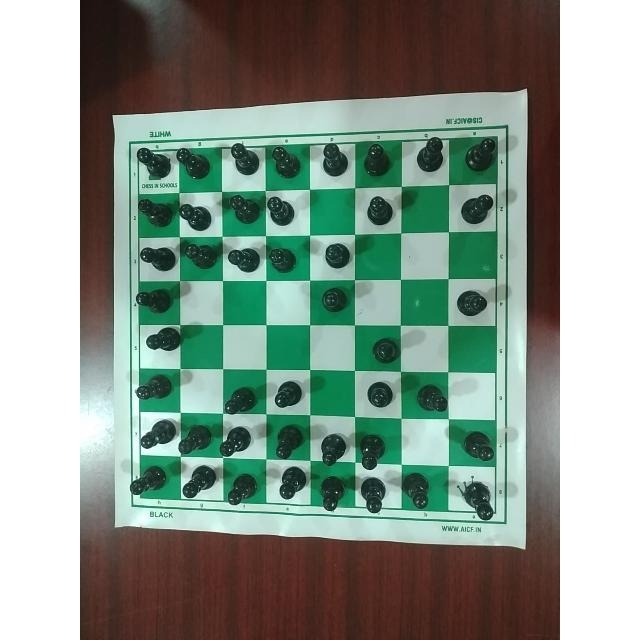black-pawn: (459, 475, 499, 521), (174, 141, 213, 181), (133, 142, 171, 181), (410, 137, 446, 177), (457, 190, 497, 226), (133, 370, 178, 402), (136, 414, 176, 450), (357, 474, 391, 516), (270, 421, 306, 460), (181, 462, 217, 501), (400, 471, 435, 511), (135, 195, 176, 229), (127, 463, 168, 497), (134, 243, 178, 274), (464, 133, 498, 173), (317, 473, 350, 514), (132, 284, 175, 315), (226, 141, 262, 177), (226, 194, 262, 230), (453, 284, 489, 320), (224, 468, 257, 507), (318, 141, 350, 181), (139, 327, 184, 355), (359, 430, 389, 471), (459, 429, 497, 461), (221, 382, 260, 413), (363, 137, 393, 177), (264, 193, 299, 227), (415, 382, 450, 416), (362, 376, 397, 410), (218, 424, 253, 458), (177, 201, 216, 231), (317, 285, 351, 319), (271, 376, 305, 410), (275, 467, 309, 501), (320, 239, 355, 272), (182, 241, 218, 273), (177, 425, 213, 457), (319, 429, 347, 469), (363, 193, 396, 226), (270, 144, 300, 180), (369, 334, 401, 367), (268, 244, 302, 275), (226, 242, 261, 272)
